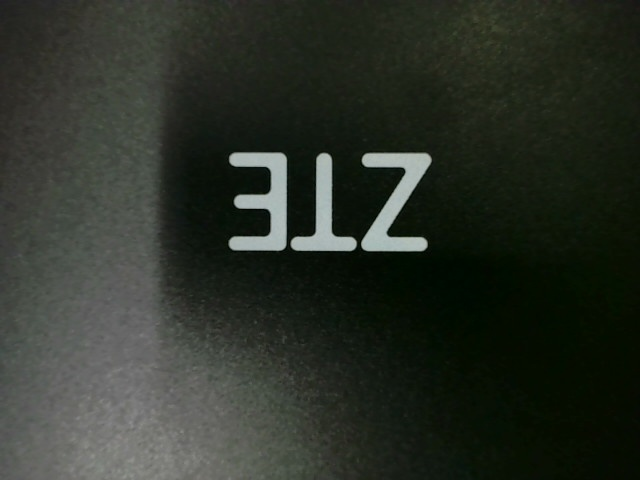AN_ZTE: (211, 143, 433, 256)
